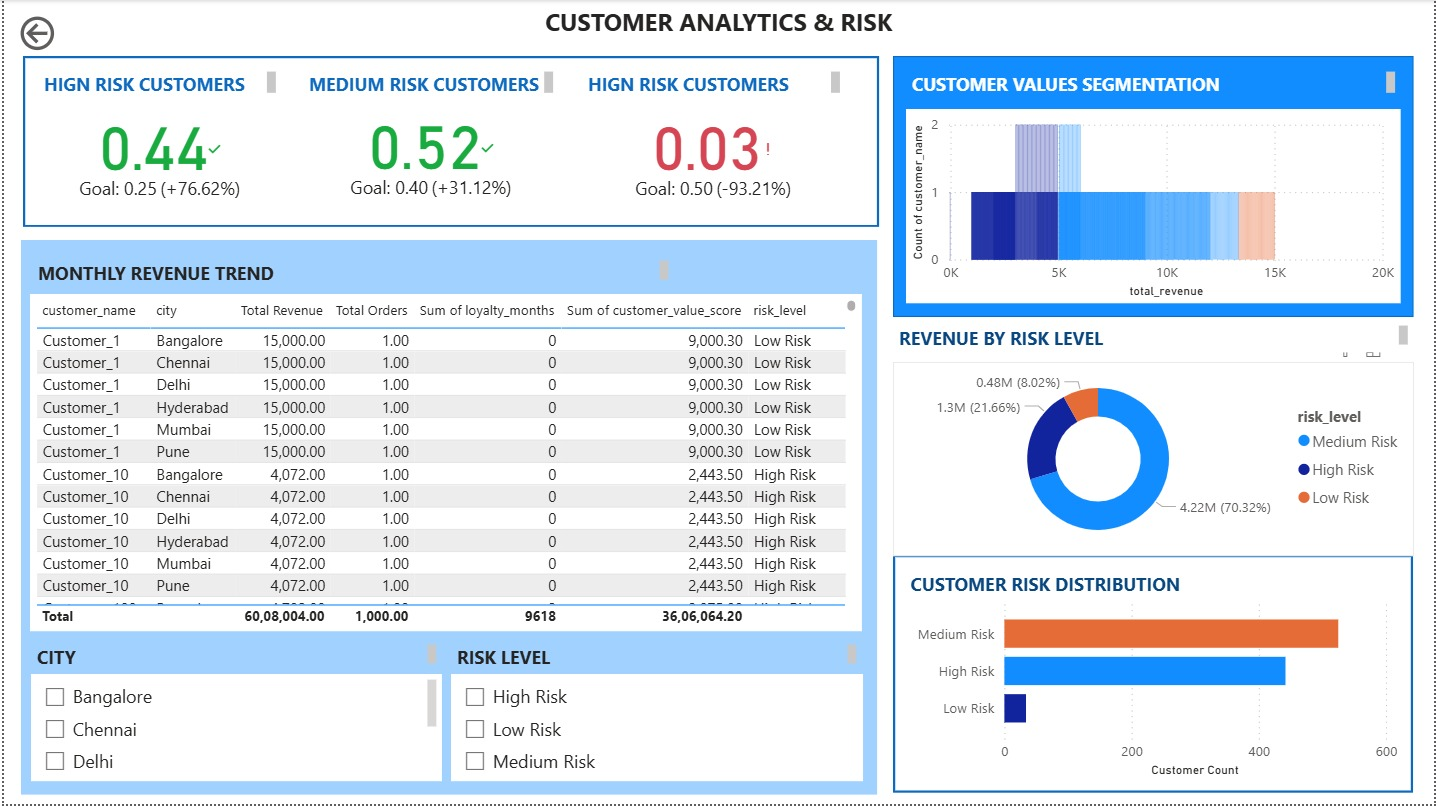

Layout of this report page (visuals, bound fields, positions):
{"tool":"powerbi","page":{"name":"CUSTOMER ANALYTICS & RISK","canvas":[1280,720],"ordinal":1},"visuals":[{"type":"shape","box":[16.7,50,766.7,153.3],"z":0},{"type":"shape","box":[15,215,766.7,496.7],"z":1000},{"type":"shape","box":[796.2,50,466.2,233.8],"z":2000},{"type":"shape","box":[795.7,497.1,465.7,212.9],"z":3000},{"type":"textbox","box":[0,0,1280,40.9],"z":4000},{"type":"kpi","fields":{"Indicator":["Customer_Risk.High Risk %"],"TrendLine":["orders.order_date.Variation.Date Hierarchy.Month"],"Goal":["Customer_Risk.High Risk Target %"]},"box":[30,97.9,218,91],"z":5000},{"type":"clusteredBarChart","fields":{"Category":["Customer_Risk.risk_level"],"Y":["Customer_Risk.Customer Count"]},"box":[807.1,528.6,445.7,171.4],"z":6000},{"type":"donutChart","fields":{"Category":["Customer_Risk.risk_level"],"Y":["Customer_Risk.Total Revenue"]},"box":[796.2,323.8,466.2,173.8],"z":7000},{"type":"tableEx","fields":{"Values":["Customer_Risk.customer_name","customers.city","Customer_Risk.Total Revenue","Customer_Risk.Total Orders","Sum(Customer_Risk.loyalty_months)","Sum(Customer_Risk.customer_value_score)","Customer_Risk.risk_level"]},"box":[23.3,263.3,745,301.7],"z":8000},{"type":"textbox","box":[30,59,218,30],"z":9000},{"type":"kpi","fields":{"Indicator":["Customer_Risk.Medium Risk %"],"TrendLine":["orders.order_date.Variation.Date Hierarchy.Month"],"Goal":["Customer_Risk.Medium Risk Target %"]},"box":[267.8,97.9,229.1,90.9],"z":10000},{"type":"kpi","fields":{"TrendLine":["orders.order_date.Variation.Date Hierarchy.Month"],"Indicator":["Customer_Risk.Low Risk %"],"Goal":["Customer_Risk.Low Risk Target %"]},"box":[516.6,97.9,236.7,91.1],"z":11000},{"type":"actionButton","box":[10,10,100,40],"z":12000},{"type":"textbox","box":[268,59,229.1,30],"z":13000},{"type":"textbox","box":[517.2,59,235.6,30],"z":14000},{"type":"textbox","box":[796.2,286.2,466.2,28.8],"z":15000},{"type":"textbox","box":[806.7,506.7,357.8,34.4],"z":16000},{"type":"textbox","box":[25,228.3,575,28.3],"z":17000},{"type":"clusteredColumnChart","fields":{"Category":["Customer_Risk.total_revenue"],"Series":["Customer_Risk.risk_level"],"Y":["CountNonNull(Customer_Risk.customer_name)"]},"box":[807.5,97.5,442.5,173.8],"z":18000},{"type":"textbox","box":[807.5,58.8,442.5,30],"z":19000},{"type":"slicer","fields":{"Values":["customers.city"]},"box":[23.8,603.8,367.5,96.2],"z":20000},{"type":"slicer","fields":{"Values":["Customer_Risk.risk_level"]},"box":[400,603.8,368.8,96.2],"z":21000},{"type":"textbox","box":[23.8,572.2,367.5,27.5],"z":22000},{"type":"textbox","box":[400,572.2,367.5,27.5],"z":23000}]}

Visuals, with their boxes in screenshot pixels (x1, y1, x2, y2), scaled from the page's 1280x720 canvas onto the 1436x806 screenshot:
shape: bbox=(19, 56, 879, 228)
shape: bbox=(17, 241, 877, 797)
shape: bbox=(893, 56, 1416, 318)
shape: bbox=(893, 556, 1415, 795)
textbox: bbox=(0, 0, 1435, 46)
kpi - Customer_Risk.High Risk % x orders.order_date.Variation.Date Hierarchy.Month: bbox=(34, 110, 278, 211)
clusteredBarChart - Customer_Risk.risk_level x Customer_Risk.Customer Count: bbox=(905, 592, 1405, 784)
donutChart - Customer_Risk.risk_level x Customer_Risk.Total Revenue: bbox=(893, 362, 1416, 557)
tableEx - Customer_Risk.customer_name x customers.city: bbox=(26, 295, 862, 632)
textbox: bbox=(34, 66, 278, 100)
kpi - Customer_Risk.Medium Risk % x orders.order_date.Variation.Date Hierarchy.Month: bbox=(300, 110, 557, 211)
kpi - orders.order_date.Variation.Date Hierarchy.Month x Customer_Risk.Low Risk %: bbox=(580, 110, 845, 212)
actionButton: bbox=(11, 11, 123, 56)
textbox: bbox=(301, 66, 558, 100)
textbox: bbox=(580, 66, 845, 100)
textbox: bbox=(893, 320, 1416, 353)
textbox: bbox=(905, 567, 1306, 606)
textbox: bbox=(28, 256, 673, 287)
clusteredColumnChart - Customer_Risk.total_revenue x Customer_Risk.risk_level: bbox=(906, 109, 1402, 304)
textbox: bbox=(906, 66, 1402, 99)
slicer - customers.city: bbox=(27, 676, 439, 784)
slicer - Customer_Risk.risk_level: bbox=(449, 676, 862, 784)
textbox: bbox=(27, 641, 439, 671)
textbox: bbox=(449, 641, 861, 671)
